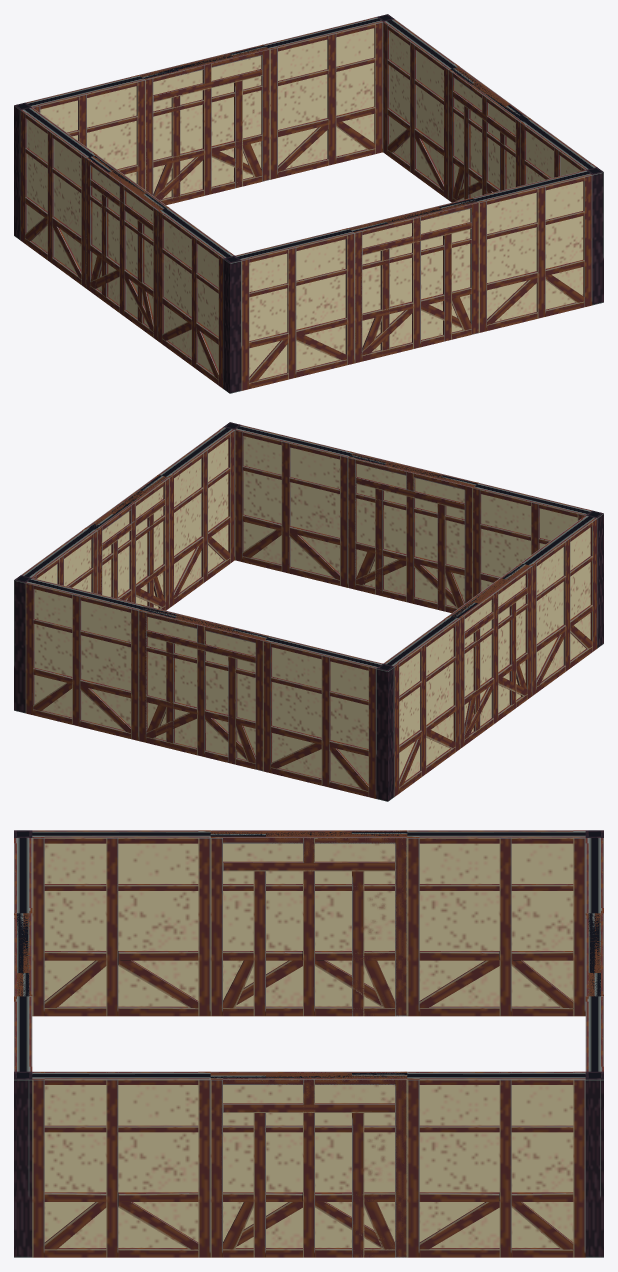
Rendered from HallAndPotionShop.fbx.
The picture shows the model from 3 angles, top to bottom: view 1: azimuth 30°, elevation 25°; view 2: azimuth 150°, elevation 25°; view 3: azimuth 270°, elevation 25°; orthographic projection. The views are drawn at different scales.
Parts seen in each view (by area): view 1: HallwaySide.001, HallwaySide, HallwaySide.003, HallwaySide.002, HallwayWall.001, HallwayWall, HallwayDoor.001, HallwayDoor, HallwayWall.003, HallwayWall.002, HallwayCorners, HallwayDoor.003 (+1 smaller); view 2: HallwaySide, HallwaySide.001, HallwaySide.003, HallwaySide.002, HallwayWall, HallwayWall.001, HallwayDoor, HallwayDoor.001, HallwayWall.003, HallwayWall.002, HallwayCorners, HallwayDoor.003 (+1 smaller); view 3: HallwaySide.002, HallwaySide.003, HallwayDoor.003, HallwayDoor.002, HallwayWall.003, HallwayWall.002, HallwayCorners, HallwaySide, HallwaySide.001, HallwayDoor.001, HallwayDoor, HallwayWall (+1 smaller).
Boxes of the visible parts, left/top/right/bottom form: HallwaySide.001: left=235, top=170, right=592, bottom=390; HallwaySide: left=26, top=17, right=382, bottom=189; HallwaySide.003: left=20, top=107, right=234, bottom=388; HallwaySide.002: left=383, top=19, right=596, bottom=199; HallwayWall.001: left=349, top=198, right=478, bottom=363; HallwayWall: left=141, top=45, right=268, bottom=205; HallwayDoor.001: left=348, top=198, right=479, bottom=362; HallwayDoor: left=139, top=44, right=269, bottom=204; HallwayWall.003: left=86, top=155, right=167, bottom=340; HallwayWall.002: left=448, top=67, right=531, bottom=200; HallwayCorners: left=14, top=14, right=603, bottom=393; HallwayDoor.003: left=86, top=155, right=169, bottom=330; HallwaySide: left=25, top=578, right=382, bottom=798; HallwaySide.001: left=235, top=425, right=591, bottom=597; HallwaySide.003: left=383, top=515, right=597, bottom=796; HallwaySide.002: left=21, top=427, right=234, bottom=607; HallwayWall: left=138, top=606, right=268, bottom=762; HallwayWall.001: left=348, top=452, right=477, bottom=609; HallwayDoor: left=138, top=606, right=269, bottom=771; HallwayDoor.001: left=348, top=453, right=478, bottom=613; HallwayWall.003: left=449, top=563, right=531, bottom=746; HallwayWall.002: left=86, top=477, right=169, bottom=610; HallwayCorners: left=14, top=422, right=603, bottom=801; HallwayDoor.003: left=449, top=563, right=531, bottom=748; HallwaySide.002: left=32, top=1071, right=585, bottom=1257; HallwaySide.003: left=32, top=830, right=585, bottom=1016; HallwayDoor.003: left=210, top=830, right=407, bottom=1016; HallwayDoor.002: left=210, top=1071, right=407, bottom=1257; HallwayWall.003: left=210, top=830, right=407, bottom=1016; HallwayWall.002: left=210, top=1071, right=407, bottom=1257; HallwayCorners: left=14, top=830, right=603, bottom=1257; HallwaySide: left=585, top=838, right=603, bottom=1071; HallwaySide.001: left=14, top=838, right=32, bottom=1071; HallwayDoor.001: left=14, top=913, right=32, bottom=996; HallwayDoor: left=585, top=913, right=603, bottom=996; HallwayWall: left=585, top=913, right=603, bottom=996.
Bounding box in the file's own units: 12 × 12 × 4.
